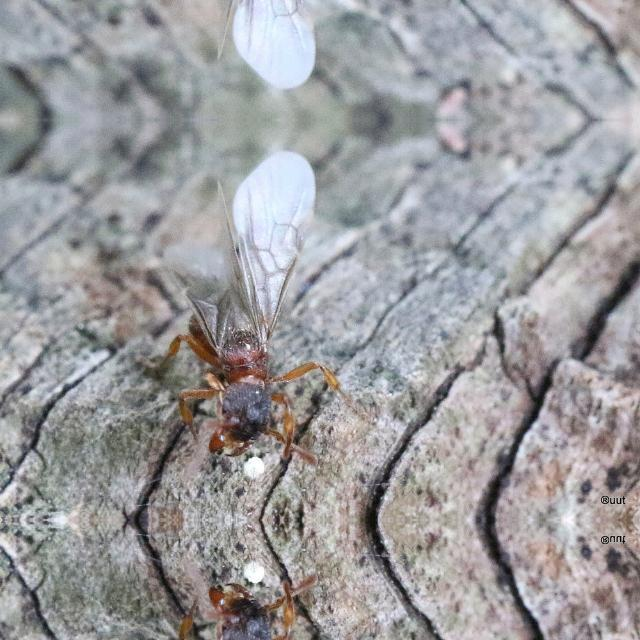Myrmica: (130, 182, 376, 478), (128, 562, 376, 640)
